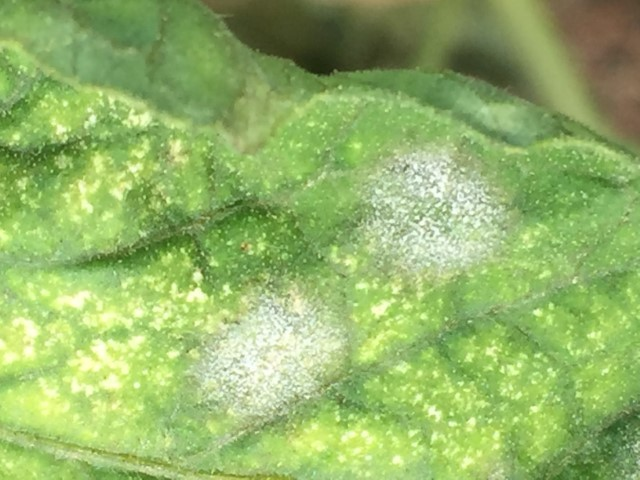oidio: (353, 145, 505, 272), (195, 289, 345, 416)
